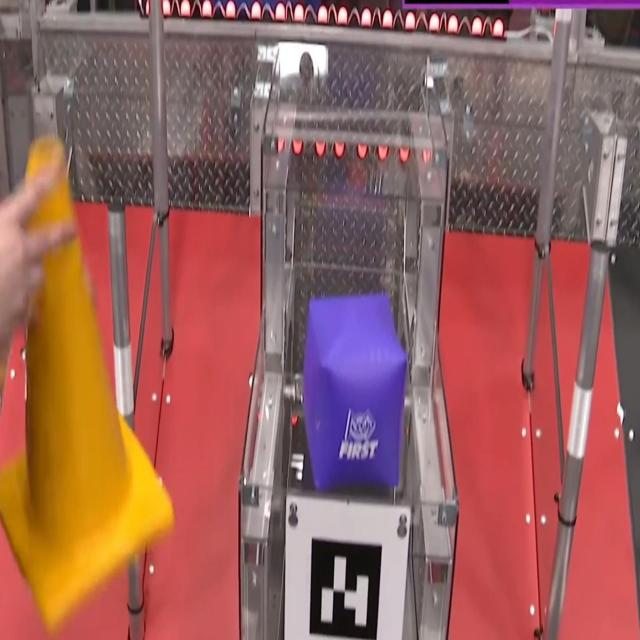frc_cone: (0, 133, 179, 630)
frc_cube: (306, 289, 410, 493)
